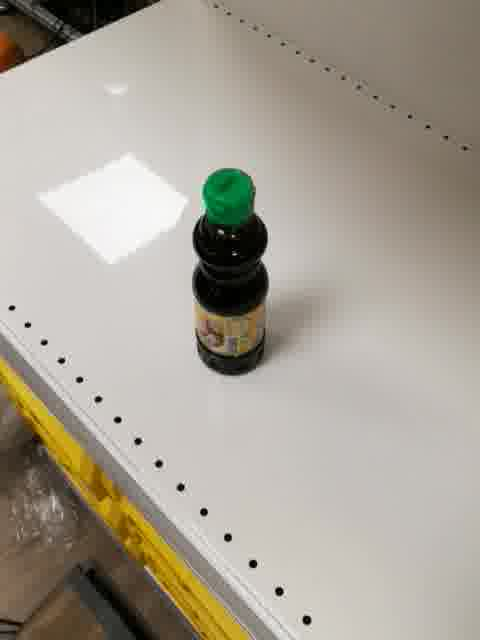cookingoil: (189, 166, 271, 377)
